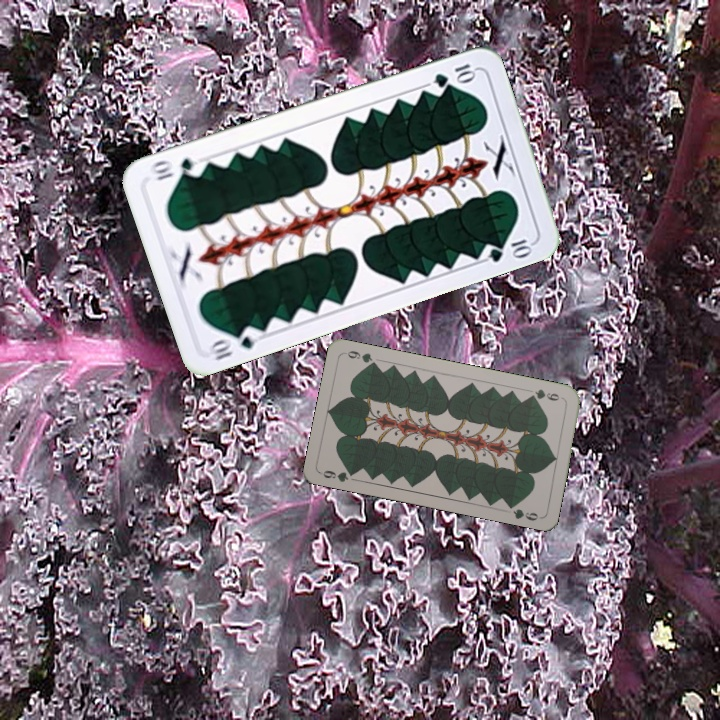G10: (204, 322, 264, 363), (429, 59, 478, 90)
G9: (317, 466, 359, 485), (525, 385, 566, 404)
